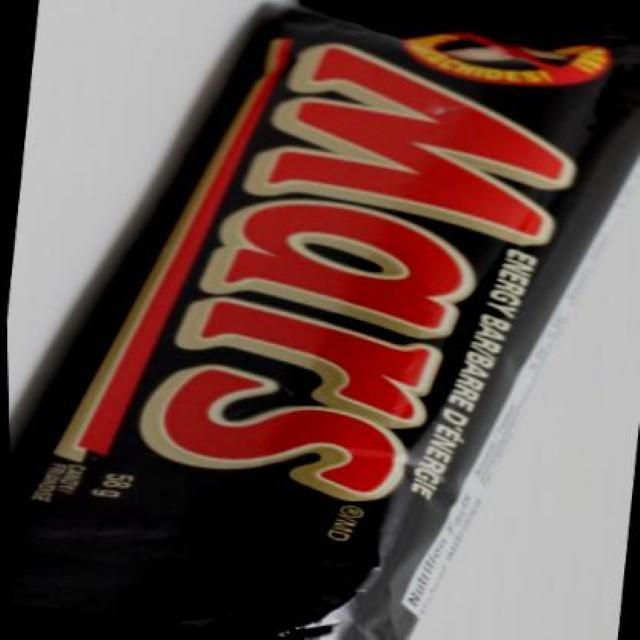mars_chocolate: (49, 65, 618, 632)
